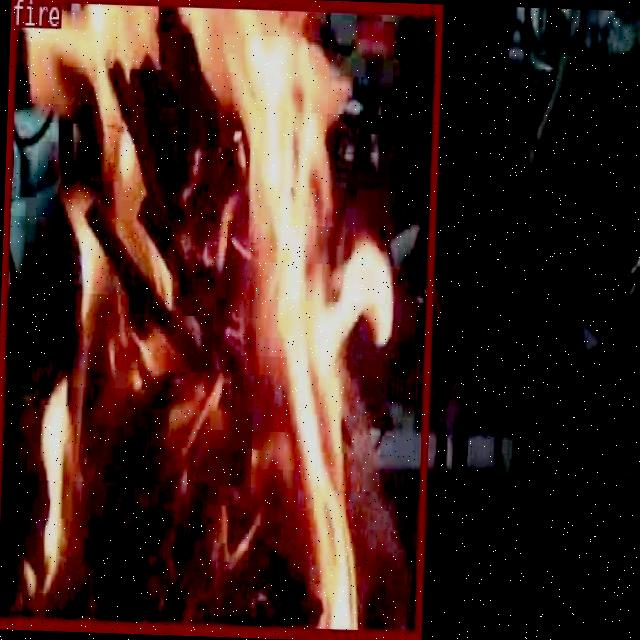fire: (0, 0, 440, 639)
